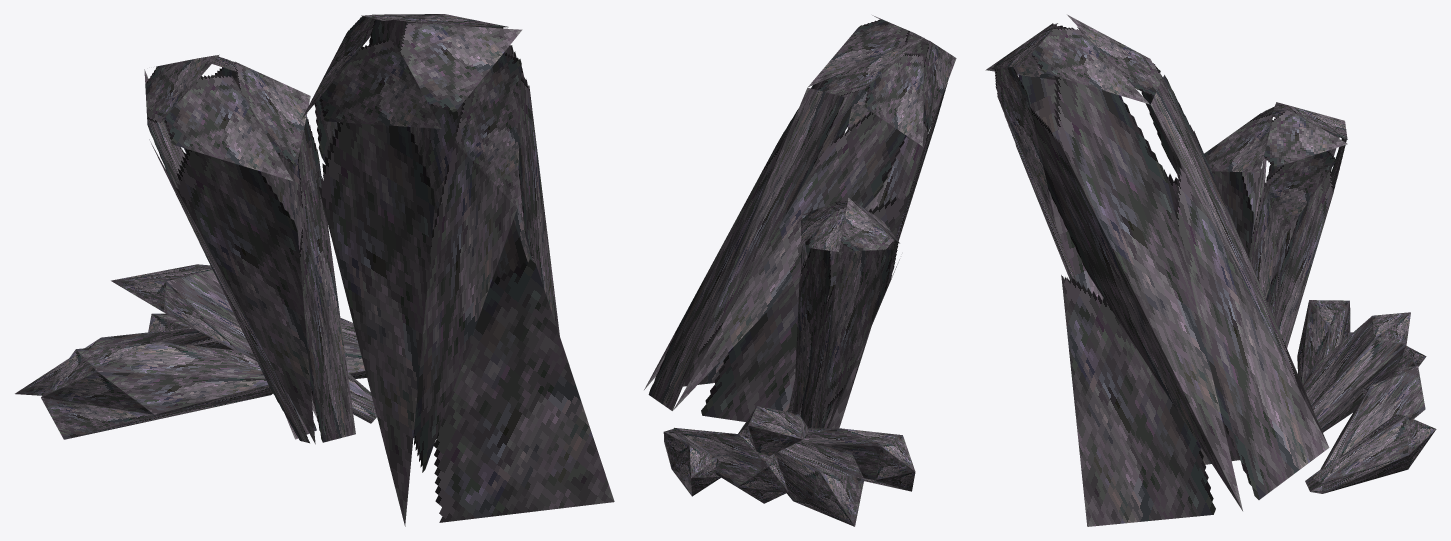
The model's file is shitou_001_2.FBX.
The picture shows the model from 3 angles, left to right: view 1: azimuth 30°, elevation 25°; view 2: azimuth 150°, elevation 25°; view 3: azimuth 270°, elevation 25°; orthographic projection. The views are drawn at different scales.
Visible parts, largest first — view 1: shitou_001_2; view 2: shitou_001_2; view 3: shitou_001_2.
Part boxes in pixels (x1,y1,x2,y2): shitou_001_2: (15, 14, 614, 526); shitou_001_2: (644, 15, 956, 526); shitou_001_2: (985, 14, 1436, 526).
Size of the model in its own units: 55.07 by 64.26 by 60.98.
